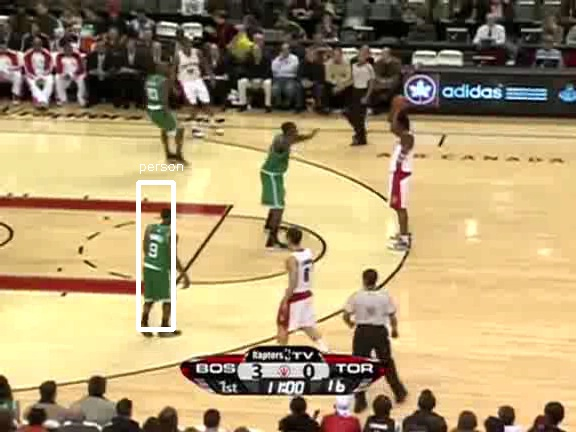person: (142, 228, 176, 309), (141, 228, 175, 309), (143, 228, 177, 309), (142, 227, 176, 308), (142, 229, 176, 310)
target_negative: (74, 71, 390, 270), (106, 126, 288, 297), (322, 181, 521, 328), (19, 95, 373, 146), (102, 305, 571, 323), (550, 280, 557, 350)
